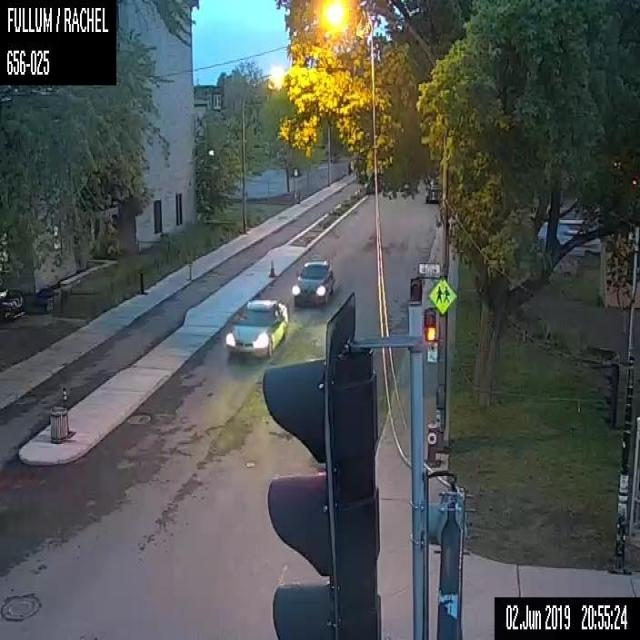vehicle: (225, 298, 287, 358), (292, 259, 334, 306), (424, 181, 440, 201)
